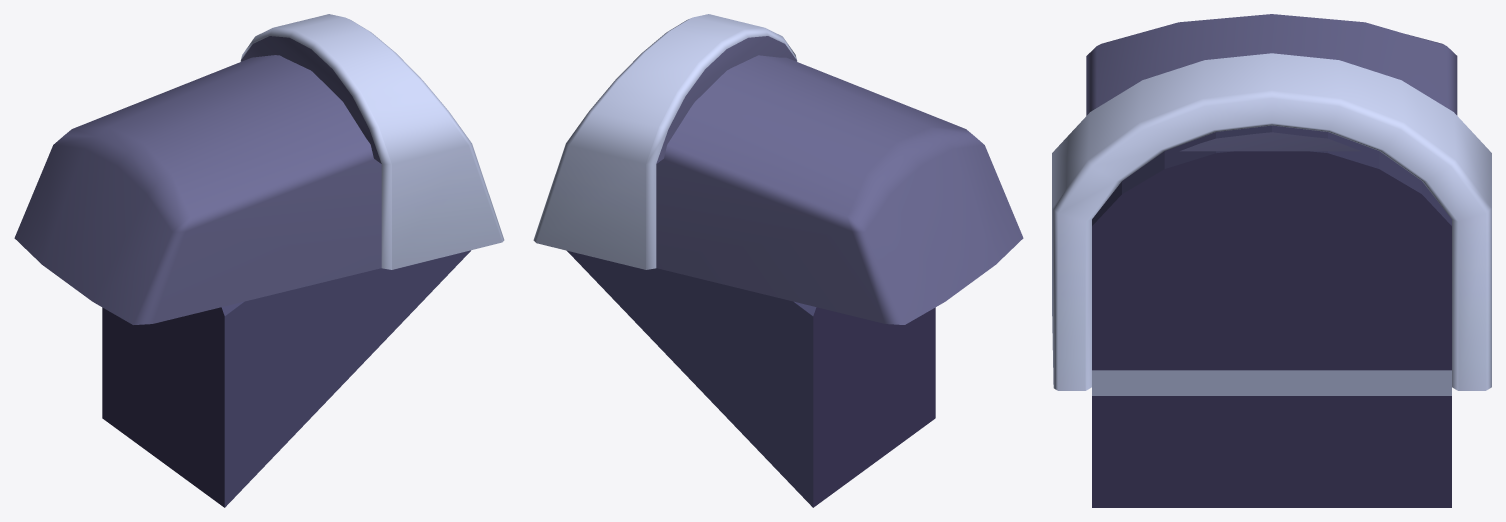
The model's file is Tunnel.fbx.
The picture shows the model from 3 angles, left to right: view 1: azimuth 30°, elevation 25°; view 2: azimuth 150°, elevation 25°; view 3: azimuth 270°, elevation 25°; orthographic projection. The views are drawn at different scales.
Parts seen in each view (by area): view 1: Tunnel; view 2: Tunnel; view 3: Tunnel.
Boxes of the visible parts, x1,y1,x2,y2 form: Tunnel: (14,14,504,507); Tunnel: (533,14,1023,507); Tunnel: (1052,14,1491,507).
Bounding box in the file's own units: 49.63 × 49.97 × 35.27.
